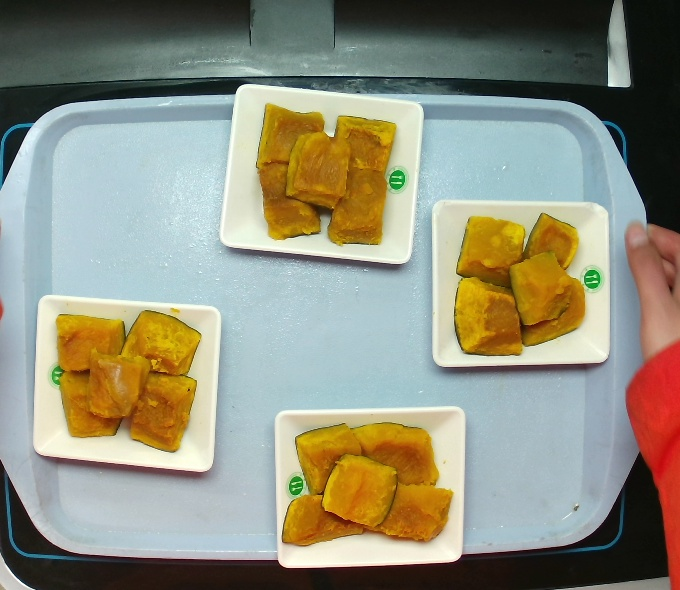wcq-RiBenNanGua: (282, 413, 457, 562), (254, 92, 397, 257), (64, 302, 202, 458), (449, 210, 586, 354)
